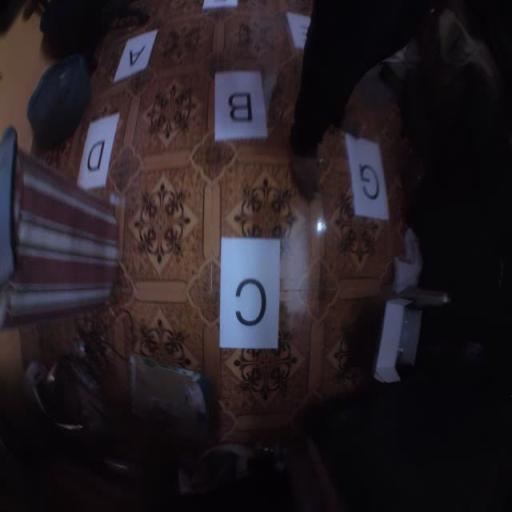A: (114, 29, 158, 83)
B: (214, 70, 268, 141)
C: (220, 238, 281, 350)
D: (78, 112, 120, 191)
E: (286, 12, 310, 50)
G: (345, 134, 389, 221)
